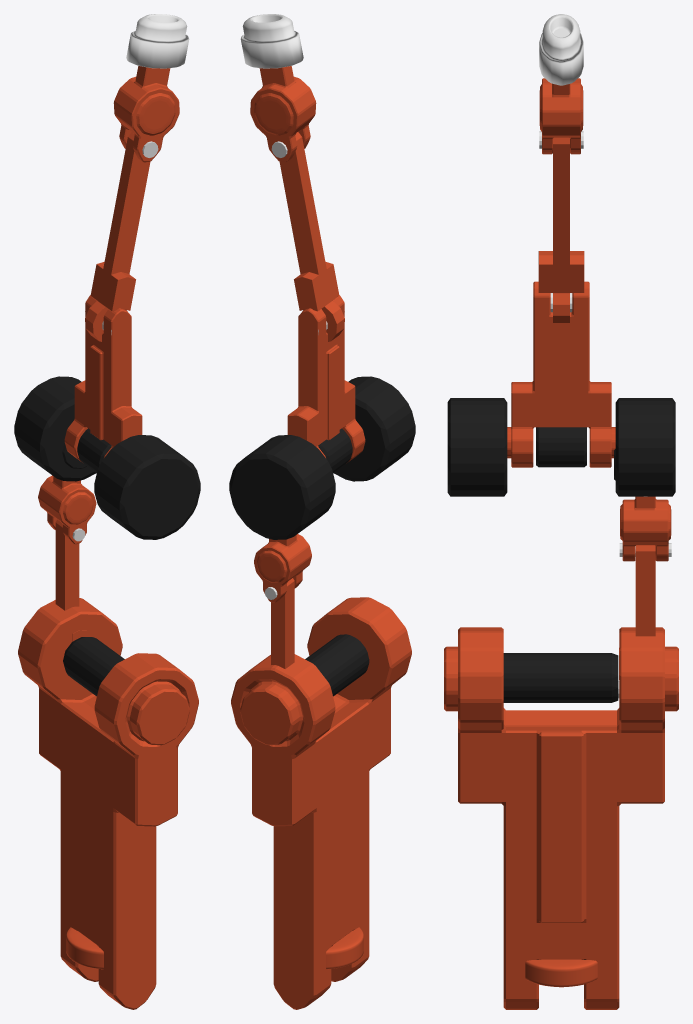
The model's file is all.fbx.
The picture shows the model from 3 angles, left to right: view 1: azimuth 30°, elevation 25°; view 2: azimuth 150°, elevation 25°; view 3: azimuth 270°, elevation 25°; orthographic projection. The views are drawn at different scales.
Visible parts, largest first — view 1: Cylinder.043___1, Cylinder.044___2, Cylinder.036___3, Cylinder.037__4; view 2: Cylinder.043___1, Cylinder.044___2, Cylinder.036___3, Cylinder.037__4; view 3: Cylinder.043___1, Cylinder.044___2, Cylinder.036___3, Cylinder.037__4.
Part boxes in pixels (<box>): Cylinder.043___1: <box>18,598,198,1009</box>; Cylinder.044___2: <box>14,295,200,539</box>; Cylinder.036___3: <box>85,14,189,341</box>; Cylinder.037__4: <box>38,475,96,641</box>; Cylinder.043___1: <box>231,597,411,1009</box>; Cylinder.044___2: <box>229,295,415,539</box>; Cylinder.036___3: <box>240,14,344,341</box>; Cylinder.037__4: <box>254,534,311,668</box>; Cylinder.043___1: <box>444,627,678,1009</box>; Cylinder.044___2: <box>447,281,675,496</box>; Cylinder.036___3: <box>538,14,584,323</box>; Cylinder.037__4: <box>618,496,671,698</box>.
Bounding box in the file's own units: 394 × 2988 × 627.
